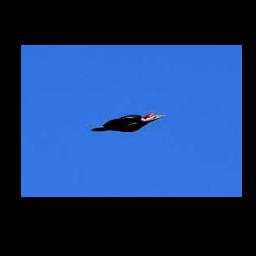Woodpecker: (91, 112, 165, 132)
